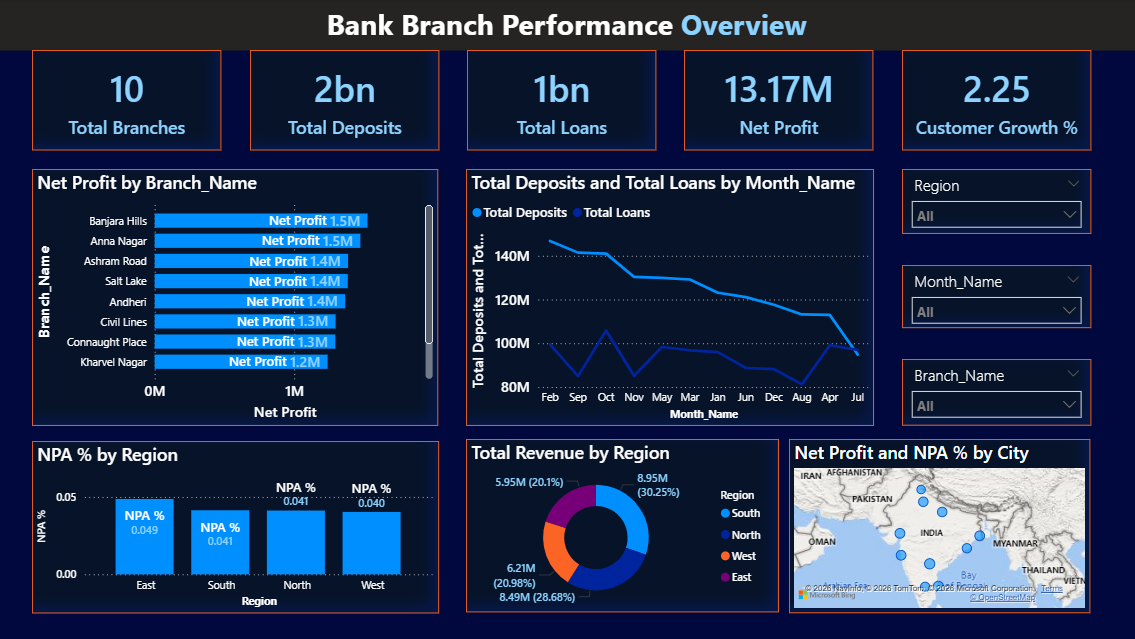

What the dashboard file says about the page in this screenshot:
{"tool":"powerbi","page":{"name":"Overview","canvas":[1280,720],"ordinal":0},"visuals":[{"type":"textbox","title":"Bank Branch Performance Overview","box":[0,0,1280,57.8],"z":0},{"type":"card","fields":{"Values":["DAX Query.Total Branches"]},"box":[38.6,57.8,213.3,113.1],"z":1000},{"type":"card","fields":{"Values":["DAX Query.Total Deposits"]},"box":[283.1,57.8,213.3,113.1],"z":2000},{"type":"card","fields":{"Values":["DAX Query.Total Loans"]},"box":[527.6,57.8,213.3,113.1],"z":3000},{"type":"card","fields":{"Values":["DAX Query.Net Profit"]},"box":[772,57.8,213.3,113.1],"z":4000},{"type":"card","fields":{"Values":["DAX Query.Customer Growth %"]},"box":[1016.5,57.8,213.3,113.1],"z":5000},{"type":"clusteredBarChart","fields":{"Category":["Dim_Branch.Branch_Name"],"Y":["DAX Query.Net Profit"]},"box":[38.7,191,456.8,289],"z":6000},{"type":"lineChart","fields":{"Category":["Dim_Date.Month_Name"],"Y":["DAX Query.Total Deposits","DAX Query.Total Loans"]},"box":[526.5,191,459.4,289],"z":7000},{"type":"clusteredColumnChart","fields":{"Category":["Dim_Branch.Region"],"Y":["DAX Query.NPA %"]},"box":[38.6,497.3,457.5,194.1],"z":8000},{"type":"donutChart","fields":{"Category":["Dim_Branch.Region"],"Y":["DAX Query.Total Revenue"]},"box":[526.5,495.5,352.3,194.8],"z":9000},{"type":"map","fields":{"Category":["Dim_Branch.City"],"Size":["DAX Query.Net Profit"]},"box":[890.3,495.5,339.4,196.1],"z":10000},{"type":"slicer","fields":{"Values":["Dim_Branch.Region"]},"box":[1016.5,191.5,213.3,73.3],"z":11000},{"type":"slicer","fields":{"Values":["Dim_Date.Month_Name"]},"box":[1016.8,299.5,212.9,71],"z":12000},{"type":"slicer","fields":{"Values":["Dim_Branch.Branch_Name"]},"box":[1016.8,405.2,212.9,74.8],"z":13000}]}

Visuals, with their boxes in screenshot pixels (x1, y1, x2, y2), scaled from the page's 1280x720 canvas onto the 1135x639 screenshot:
"Bank Branch Performance Overview" textbox: (0,0,1134,51)
card - DAX Query.Total Branches: (34,51,223,152)
card - DAX Query.Total Deposits: (251,51,440,152)
card - DAX Query.Total Loans: (468,51,657,152)
card - DAX Query.Net Profit: (685,51,874,152)
card - DAX Query.Customer Growth %: (901,51,1090,152)
clusteredBarChart - Dim_Branch.Branch_Name x DAX Query.Net Profit: (34,170,439,426)
lineChart - Dim_Date.Month_Name x DAX Query.Total Deposits: (467,170,874,426)
clusteredColumnChart - Dim_Branch.Region x DAX Query.NPA %: (34,441,440,614)
donutChart - Dim_Branch.Region x DAX Query.Total Revenue: (467,440,779,613)
map - Dim_Branch.City x DAX Query.Net Profit: (789,440,1090,614)
slicer - Dim_Branch.Region: (901,170,1090,235)
slicer - Dim_Date.Month_Name: (902,266,1090,329)
slicer - Dim_Branch.Branch_Name: (902,360,1090,426)
